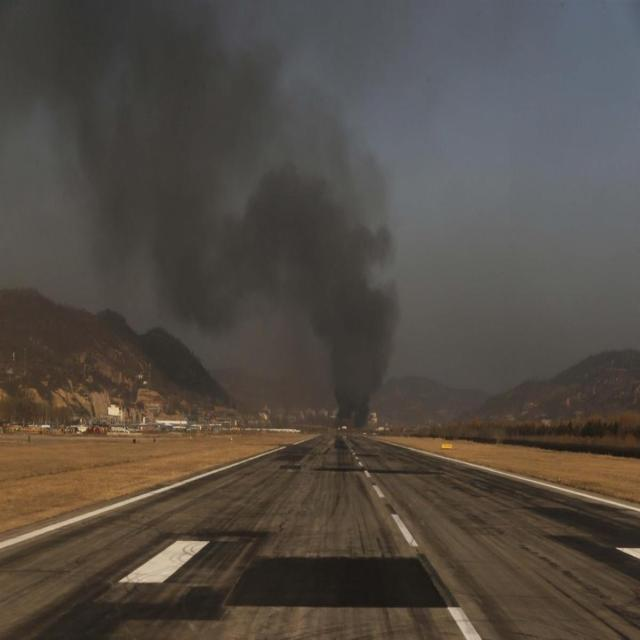Smoke: (202, 0, 640, 426), (0, 0, 394, 423)
